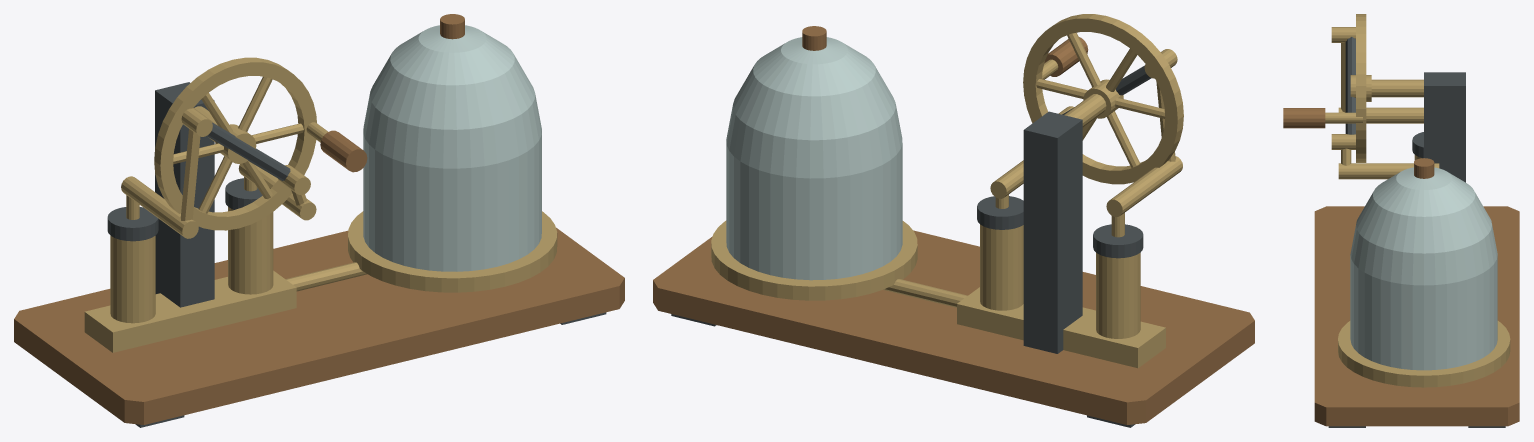
3 renders of one model, left to right at view 1: azimuth 30°, elevation 25°; view 2: azimuth 150°, elevation 25°; view 3: azimuth 270°, elevation 25°, orthographic. The views are drawn at different scales.
Parts seen in each view (by area): view 1: WholeLongWoodBase, WholeOpaqueHollowBellCover, WholeHandwheelRim, WholeCommonPumpHousing, WholeCentralShaftPedestal, WholeCircularBellPlate, WholePumpBarrel0, WholePumpBarrel1, WholeCrossheadPin0, WholeOccupiedRodGland0, WholeOffsetWoodGrip, WholeConnectingLink0 (+9 smaller); view 2: WholeLongWoodBase, WholeOpaqueHollowBellCover, WholeCentralShaftPedestal, WholeHandwheelRim, WholeCircularBellPlate, WholeCommonPumpHousing, WholePumpBarrel0, WholePumpBarrel1, WholeCrossheadPin0, WholeOccupiedRodGland0, WholeOccupiedRodGland1, WholeConnectingTubeExterior (+7 smaller); view 3: WholeOpaqueHollowBellCover, WholeLongWoodBase, WholeCentralShaftPedestal, WholeCircularBellPlate, WholeHandwheelRim, WholeCrossheadPin1, WholeCrossheadPin0, WholeHandwheelShaft, WholeOffsetWoodGrip, WholeFixedCrankArm0, WholeHandleAxle, WholeBellTopKnob (+6 smaller).
Boxes of the visible parts, x1=… form: WholeLongWoodBase: x1=14, y1=227, x2=624, y2=424; WholeOpaqueHollowBellCover: x1=363, y1=25, x2=541, y2=271; WholeHandwheelRim: x1=154, y1=57, x2=316, y2=230; WholeCommonPumpHousing: x1=84, y1=270, x2=296, y2=352; WholeCentralShaftPedestal: x1=155, y1=82, x2=214, y2=307; WholeCircularBellPlate: x1=348, y1=211, x2=557, y2=292; WholePumpBarrel0: x1=110, y1=235, x2=155, y2=323; WholePumpBarrel1: x1=228, y1=207, x2=273, y2=294; WholeCrossheadPin0: x1=121, y1=176, x2=198, y2=238; WholeOccupiedRodGland0: x1=107, y1=207, x2=158, y2=241; WholeOffsetWoodGrip: x1=320, y1=130, x2=367, y2=172; WholeConnectingLink0: x1=180, y1=129, x2=200, y2=220; WholeLongWoodBase: x1=653, y1=230, x2=1254, y2=424; WholeOpaqueHollowBellCover: x1=726, y1=37, x2=902, y2=280; WholeCentralShaftPedestal: x1=1023, y1=111, x2=1082, y2=353; WholeHandwheelRim: x1=1023, y1=14, x2=1183, y2=184; WholeCircularBellPlate: x1=711, y1=220, x2=917, y2=300; WholeCommonPumpHousing: x1=957, y1=287, x2=1165, y2=368; WholePumpBarrel0: x1=1096, y1=253, x2=1140, y2=338; WholePumpBarrel1: x1=980, y1=224, x2=1023, y2=310; WholeCrossheadPin0: x1=1106, y1=156, x2=1182, y2=216; WholeOccupiedRodGland0: x1=1093, y1=224, x2=1143, y2=258; WholeOccupiedRodGland1: x1=977, y1=196, x2=1023, y2=229; WholeConnectingTubeExterior: x1=883, y1=279, x2=967, y2=307; WholeOpaqueHollowBellCover: x1=1350, y1=167, x2=1497, y2=370; WholeLongWoodBase: x1=1314, y1=206, x2=1519, y2=426; WholeCentralShaftPedestal: x1=1424, y1=72, x2=1465, y2=182; WholeCircularBellPlate: x1=1338, y1=321, x2=1510, y2=387; WholeHandwheelRim: x1=1356, y1=14, x2=1366, y2=162; WholeCrossheadPin1: x1=1338, y1=163, x2=1439, y2=179; WholeCrossheadPin0: x1=1338, y1=107, x2=1423, y2=123; WholeHandwheelShaft: x1=1371, y1=79, x2=1423, y2=97; WholeOffsetWoodGrip: x1=1283, y1=108, x2=1325, y2=128; WholeFixedCrankArm0: x1=1345, y1=37, x2=1355, y2=87; WholeHandleAxle: x1=1325, y1=112, x2=1362, y2=123; WholeBellTopKnob: x1=1414, y1=158, x2=1434, y2=178.
Size of the model in its own units: 1.02 by 0.63 by 0.507.
